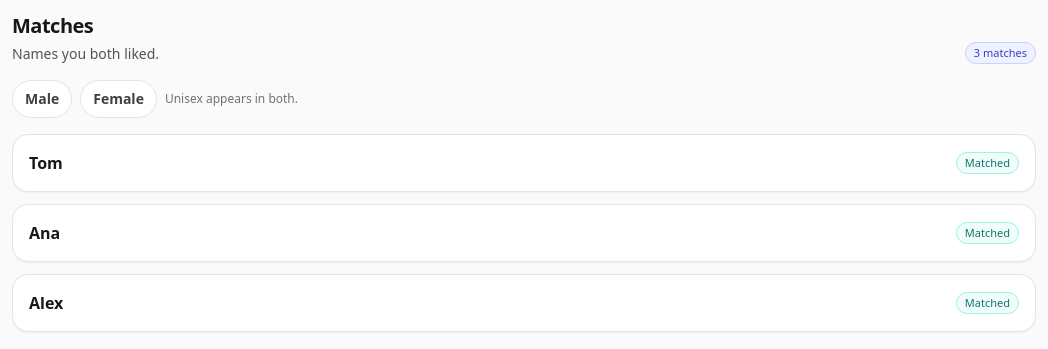
Test: matches page › applies male/female filter with unisex included in both
Expected: the text "3 matches" is shown, [965,42,1036,64]
Click the button "Male" at [42, 99], box [12,80,72,118]
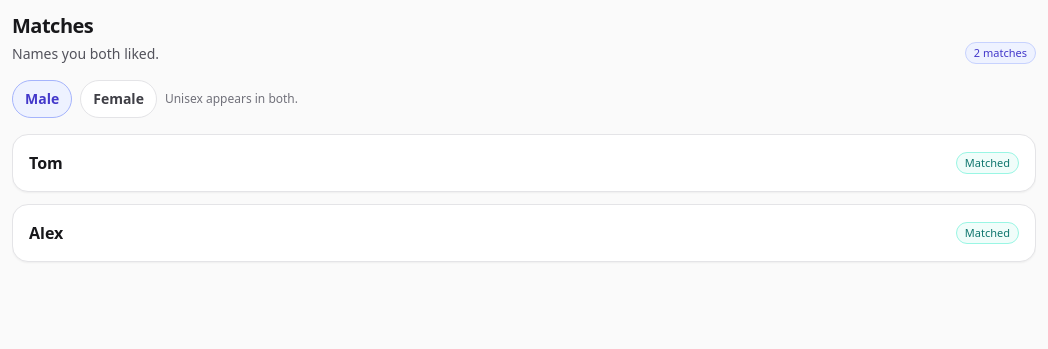
Now the text "2 matches" is shown, box [965,42,1036,64]
Click the button "Female" at [119, 99], box [80,80,157,118]
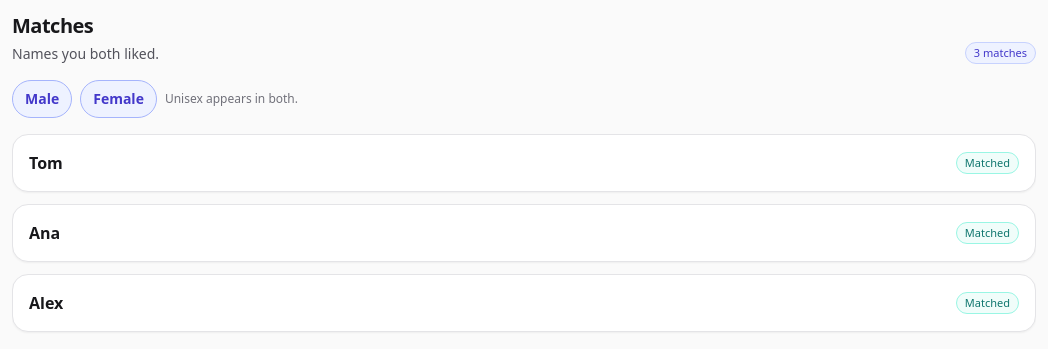
Now the text "3 matches" is shown, box [965,42,1036,64]
